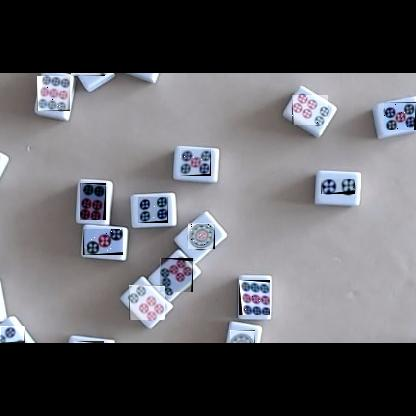1p: (188, 223, 215, 249), (230, 330, 255, 343)
2p: (321, 179, 355, 194)
3p: (83, 229, 123, 255), (71, 73, 106, 76)
4p: (138, 197, 168, 223), (0, 326, 25, 343), (74, 341, 104, 343)
5p: (384, 102, 416, 130), (180, 149, 211, 176)
6p: (129, 285, 165, 320), (292, 95, 328, 125), (80, 183, 106, 220)
7p: (160, 258, 193, 292)
9p: (37, 76, 70, 111), (239, 280, 270, 315)
